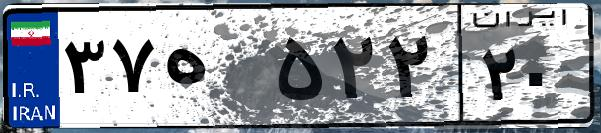0: (525, 38, 570, 115)
2: (385, 28, 445, 110), (330, 28, 385, 110), (475, 38, 525, 113)
3: (57, 26, 110, 100)
5: (270, 28, 330, 110)
7: (110, 28, 158, 98)
ه: (158, 20, 270, 120)
